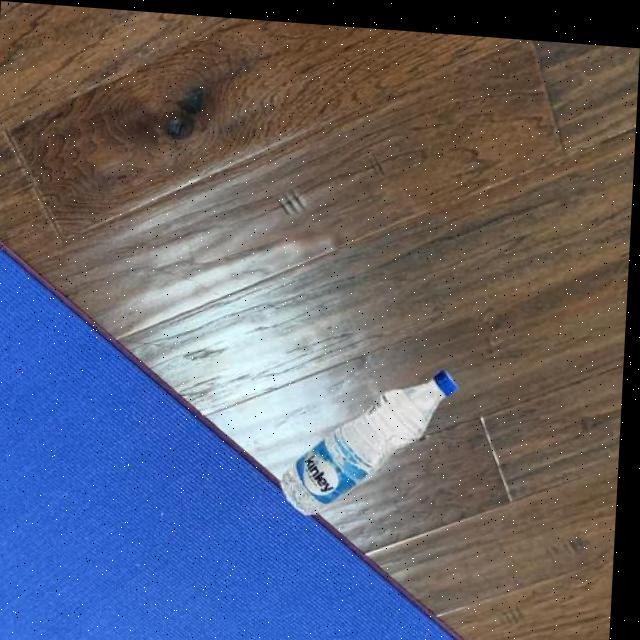bottle: (283, 351, 464, 520)
